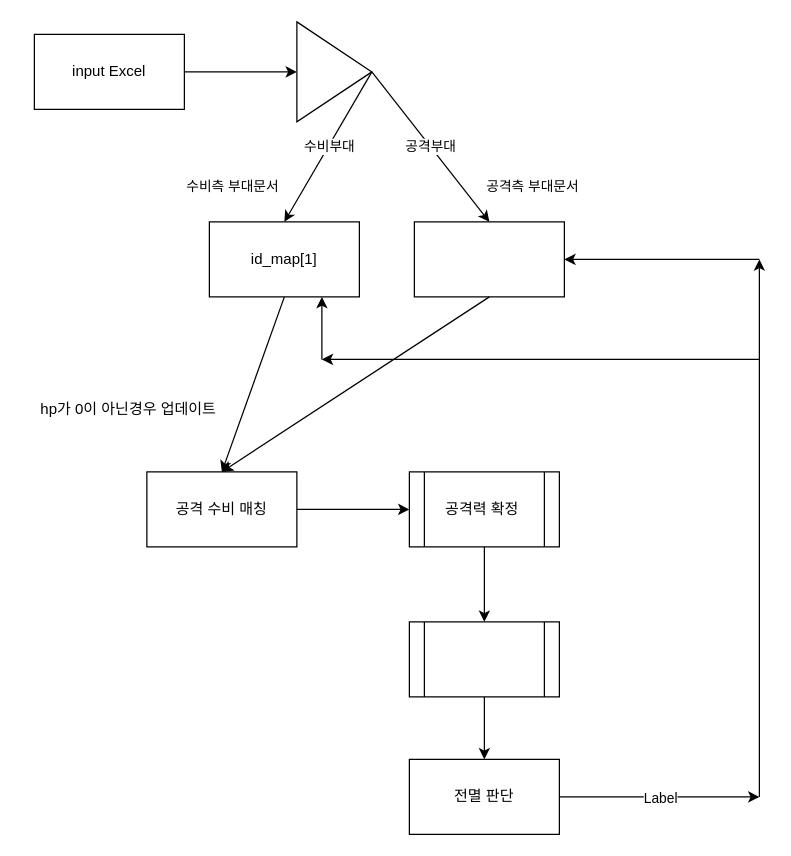
This 791x856 diagram has some shape labels left out. The centre of each missing label's shape, as x and y in pixels:
id_map[0]: the point at 488,259
감산: the point at 483,659
파싱: the point at 334,71
